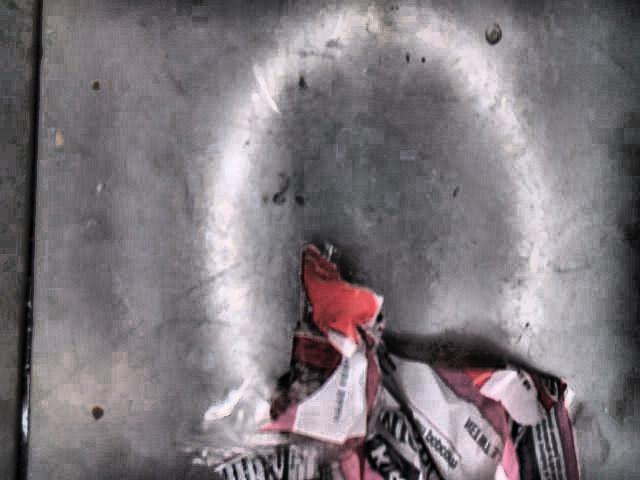Plastic: (176, 240, 609, 480)
